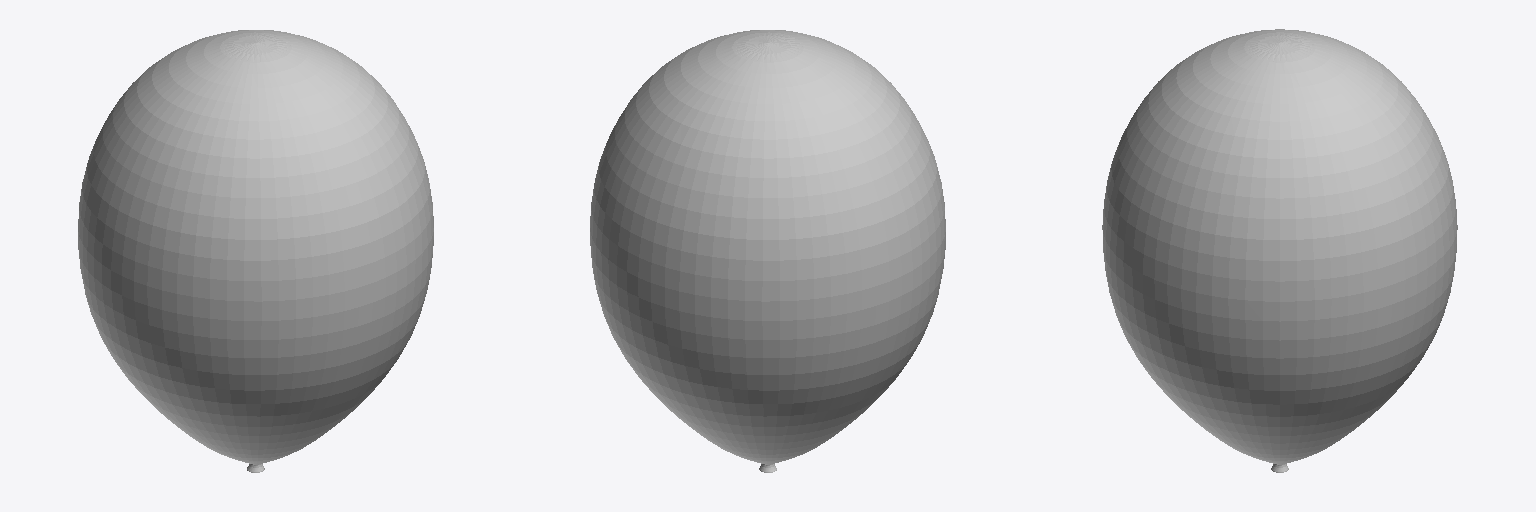
Rendered from Globo10.obj.
The picture shows the model from 3 angles: view 1: azimuth 30°, elevation 25°; view 2: azimuth 150°, elevation 25°; view 3: azimuth 270°, elevation 25°; orthographic projection.
Visible parts, largest first — view 1: Sphere.009; view 2: Sphere.009; view 3: Sphere.009.
Part boxes in pixels (x1,y1,x2,y2): Sphere.009: (78,30,433,472); Sphere.009: (590,30,945,472); Sphere.009: (1102,29,1457,472).
Size of the model in its own units: 0.5211 by 0.688 by 0.519.